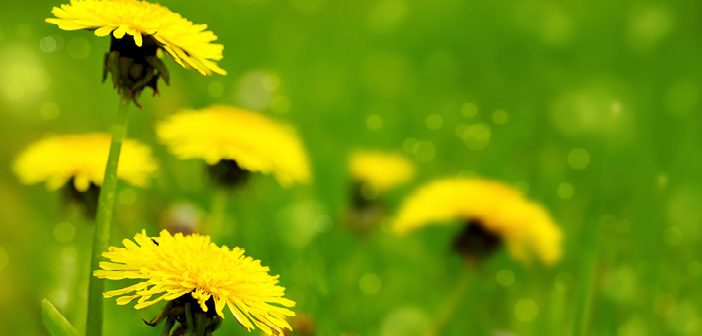begonvil: (91, 223, 306, 336), (48, 2, 236, 101)
